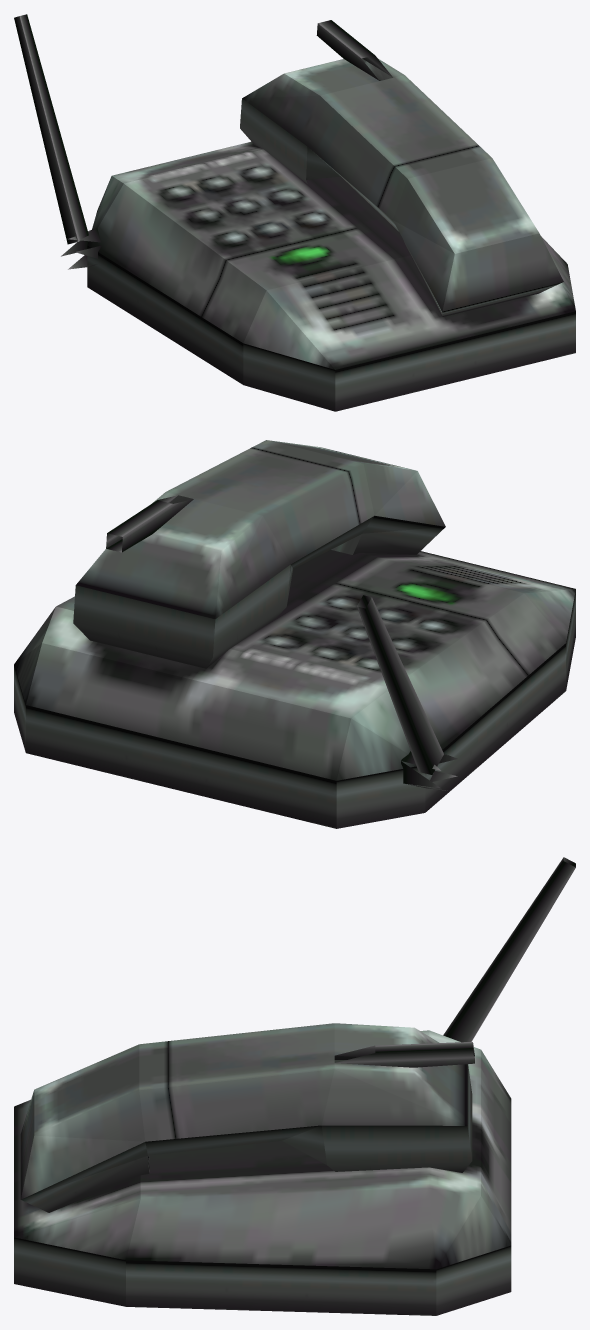
The model's file is cordless02.fbx.
3 views of the same model, one above another, from view 1: azimuth 30°, elevation 25°; view 2: azimuth 150°, elevation 25°; view 3: azimuth 270°, elevation 25° (orthographic). The views are drawn at different scales.
Visible parts, largest first — view 1: mesh_0; view 2: mesh_0; view 3: mesh_0.
Boxes of the visible parts, x1,y1,x2,y2 form: mesh_0: (14, 14, 575, 411); mesh_0: (14, 440, 575, 828); mesh_0: (14, 857, 575, 1315).
Size of the model in its own units: 23.21 by 13.6 by 26.79.
Materials: 1 (1 with a texture image).
